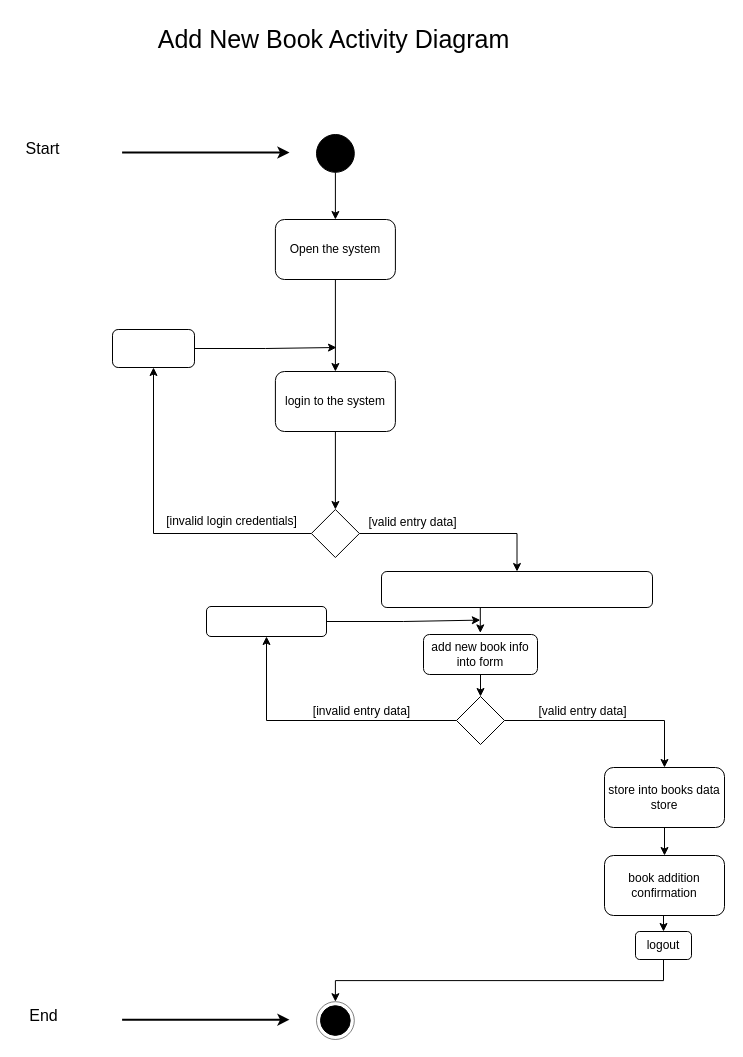
Some shapes in this 743 by 1057 pixel diagram are drawn without their labels. Each missing label, with the centre of its shape:
Choose add a new book option from the menu: point 516,589
renter login credentials: point 153,348
show, error message: point 266,621
